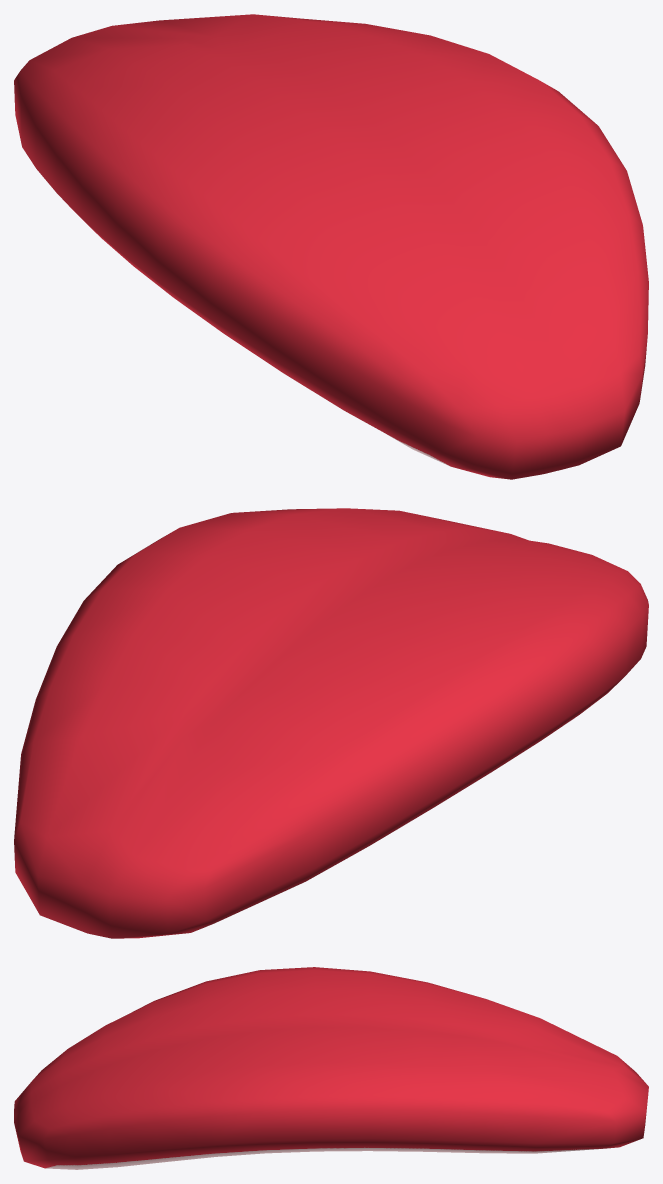
Rendered from crumb.glb.
The picture shows the model from 3 angles, top to bottom: view 1: azimuth 30°, elevation 25°; view 2: azimuth 150°, elevation 25°; view 3: azimuth 270°, elevation 25°; orthographic projection. The views are drawn at different scales.
Parts seen in each view (by area): view 1: Crumb.001; view 2: Crumb.001; view 3: Crumb.001.
Boxes of the visible parts, x1,y1,x2,y2 form: Crumb.001: (14,14,648,479); Crumb.001: (14,508,648,938); Crumb.001: (14,967,648,1169).
Bounding box in the file's own units: 0.3136 × 0.1368 × 0.5891.
Materials: 1 (1 with a texture image).
